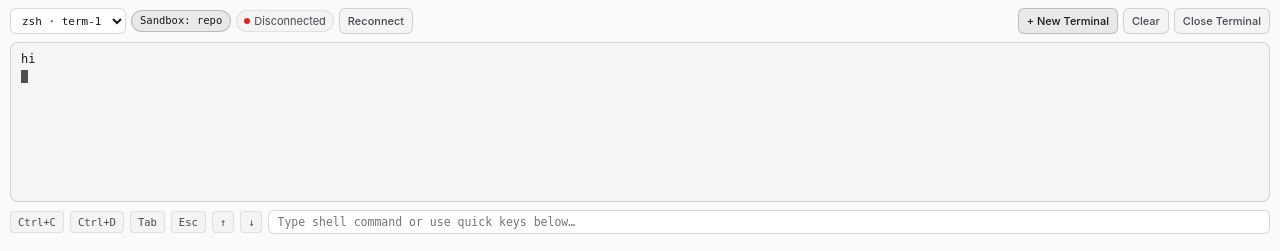
it: TerminalPanel › shows explicit reconnect button when SSE disconnects and resubscribes on click
Click the button with test id "terminal-reconnect-btn". click: {"x": 376, "y": 21}
box: [339,8,413,34]
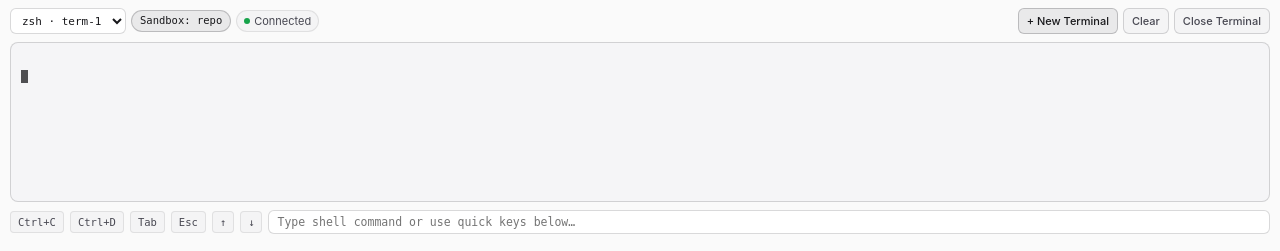
Expected: the button with test id "terminal-reconnect-btn" is gone
